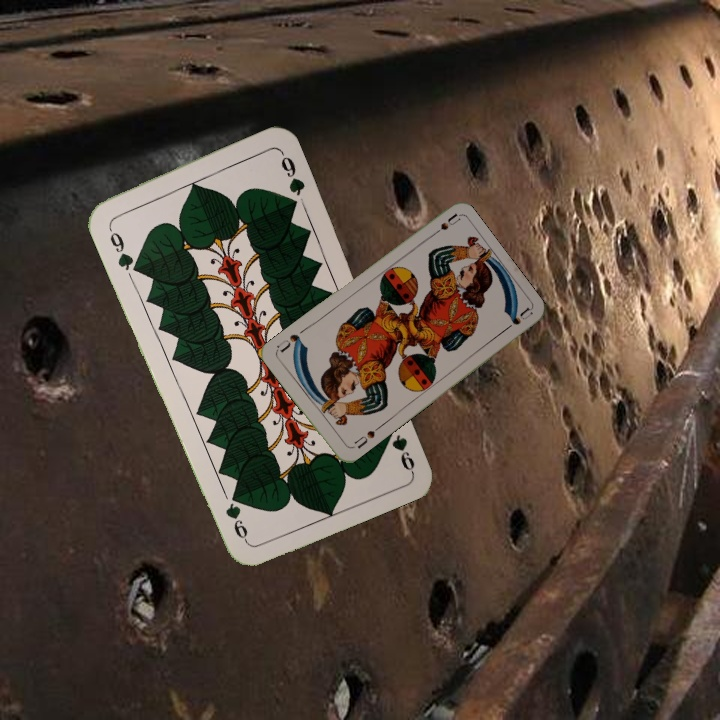G9: (104, 221, 140, 275), (387, 430, 418, 474)
SU: (425, 210, 462, 241), (347, 426, 378, 451)
